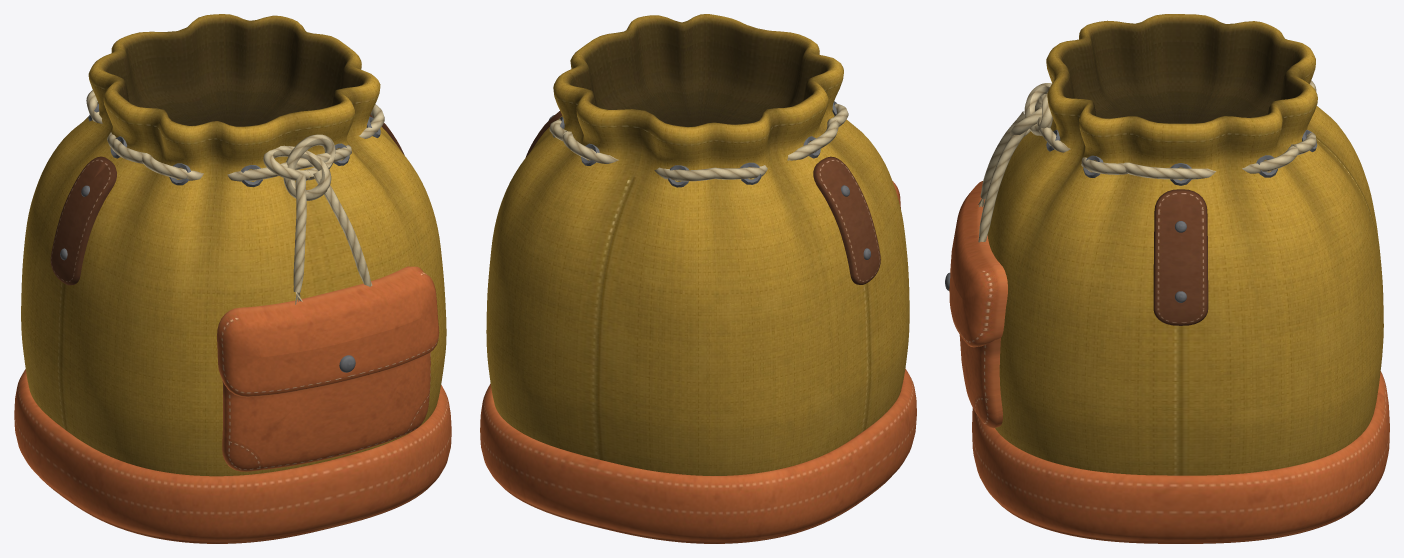
File: knockout_bag.glb
The picture shows the model from 3 angles, left to right: view 1: azimuth 30°, elevation 25°; view 2: azimuth 150°, elevation 25°; view 3: azimuth 270°, elevation 25°; orthographic projection.
Parts seen in each view (by area): view 1: KnockoutBag; view 2: KnockoutBag; view 3: KnockoutBag.
Part boxes in pixels (x1,y1,x2,y2): KnockoutBag: (14, 14, 451, 543); KnockoutBag: (480, 14, 916, 543); KnockoutBag: (945, 14, 1389, 543).
Size of the model in its own units: 0.3985 by 0.4122 by 0.4239.
7 materials, 7 textured.
